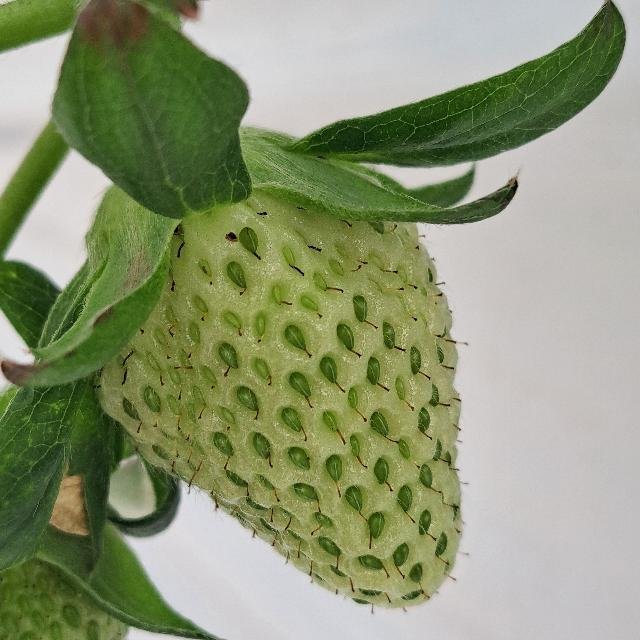Health_25: (101, 157, 462, 608)
